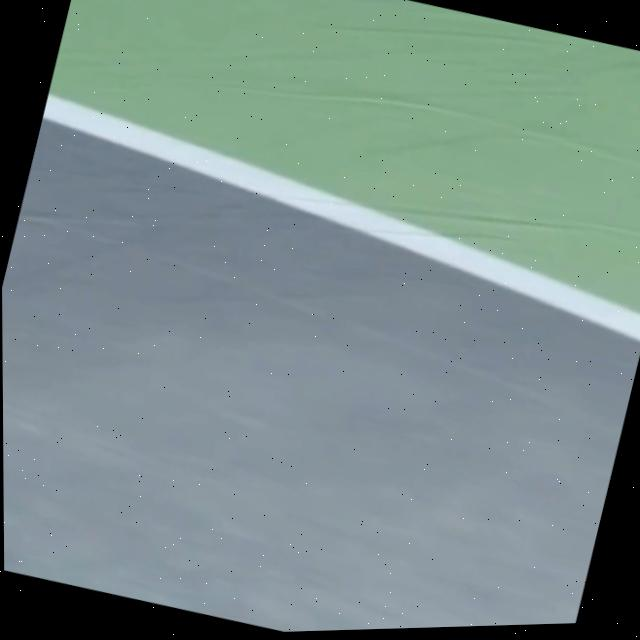right: (41, 95, 640, 342)
